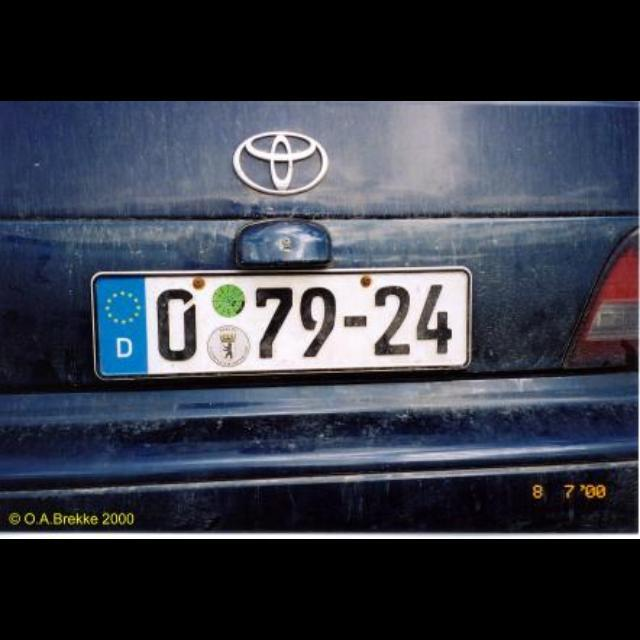license-plates: (91, 267, 472, 380)
